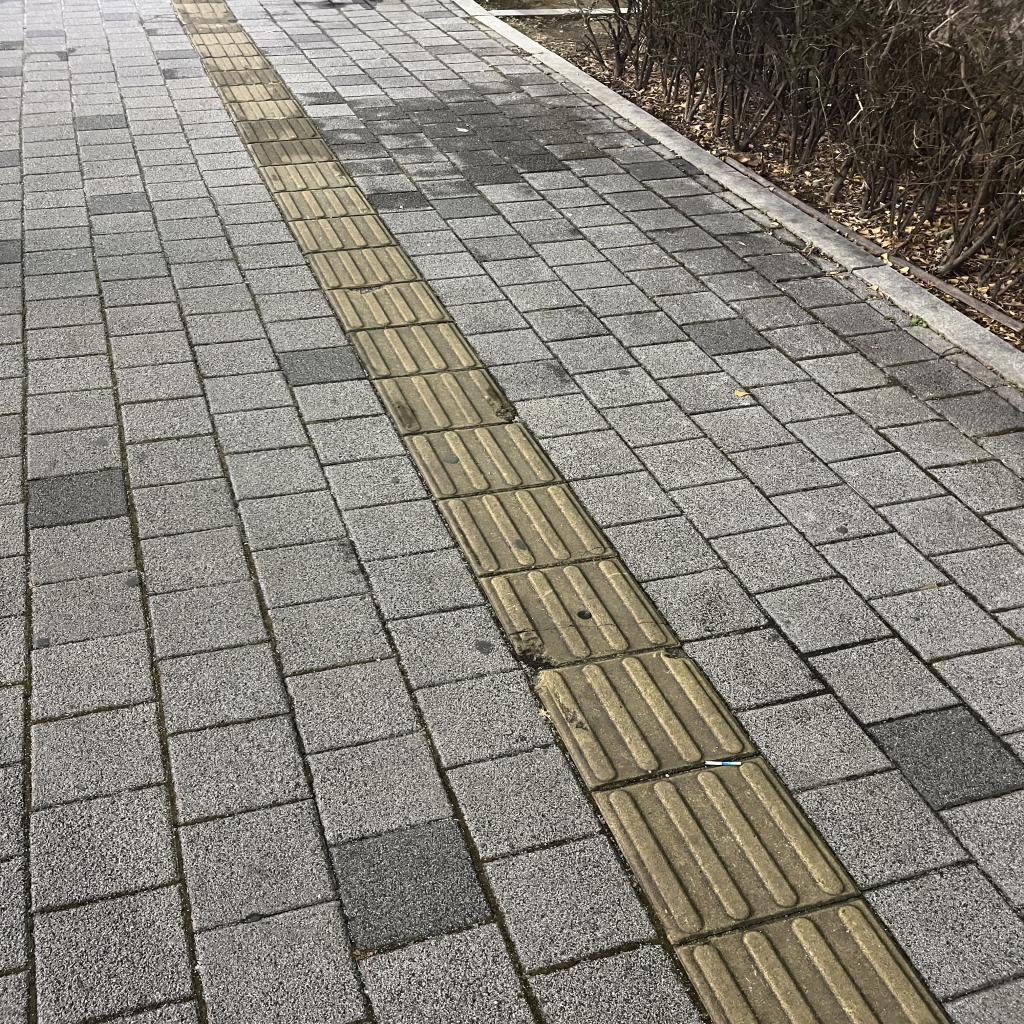Straight block broken: (529, 630, 755, 797), (480, 549, 678, 675), (374, 363, 518, 437), (325, 278, 452, 332), (274, 185, 375, 222), (259, 160, 354, 193)
Straight block normal: (594, 734, 858, 953), (438, 477, 616, 580), (403, 416, 562, 501), (349, 319, 482, 380), (306, 242, 421, 292), (289, 212, 396, 254)
